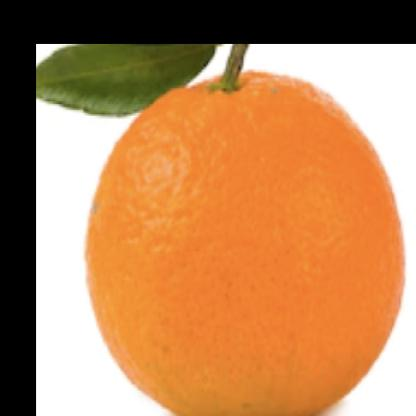fresh: (92, 71, 407, 416)
